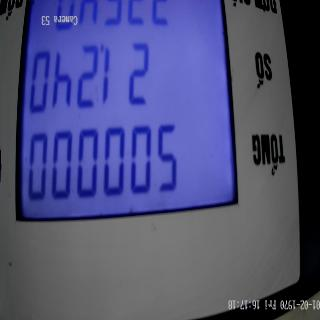screen: (14, 0, 242, 230)
